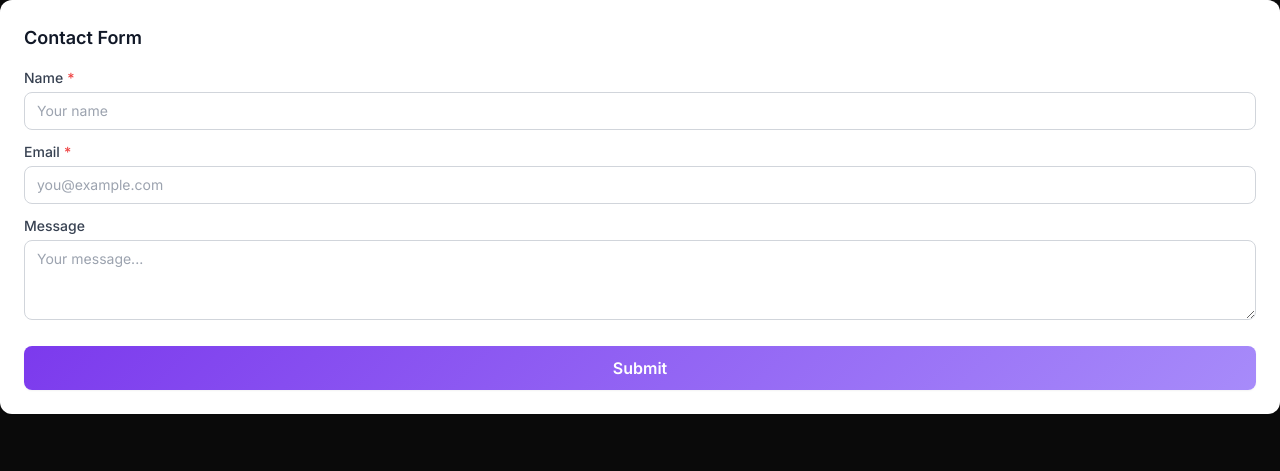
Test case: Form › shows validation errors for required fields
Click the button "Submit" at x=640, y=368, box [24,346,1256,390]
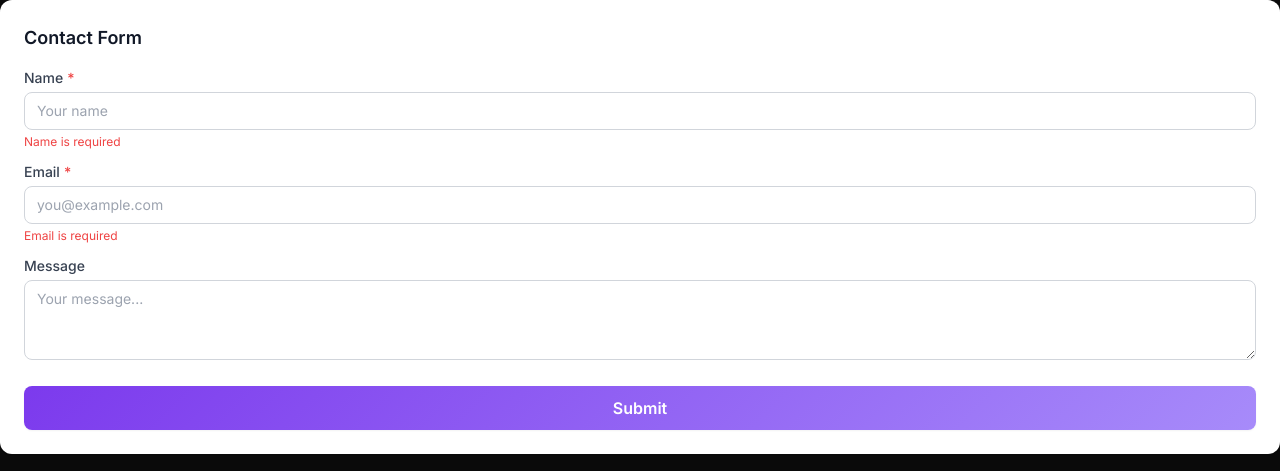
Now the text "Name is required" is shown, box [24,134,121,149]
Now the text "Email is required" is shown, box [24,228,118,243]
